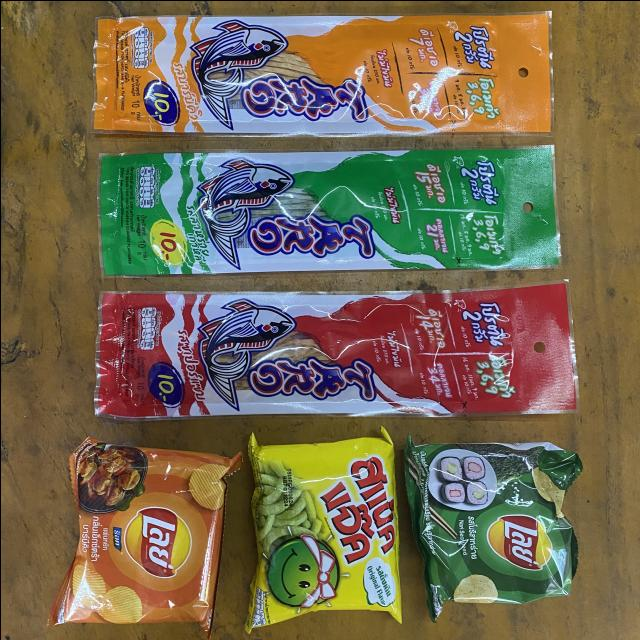plastik: (95, 281, 577, 418), (97, 145, 559, 276), (92, 11, 551, 134), (47, 436, 241, 635), (404, 436, 581, 621), (245, 427, 400, 631)
